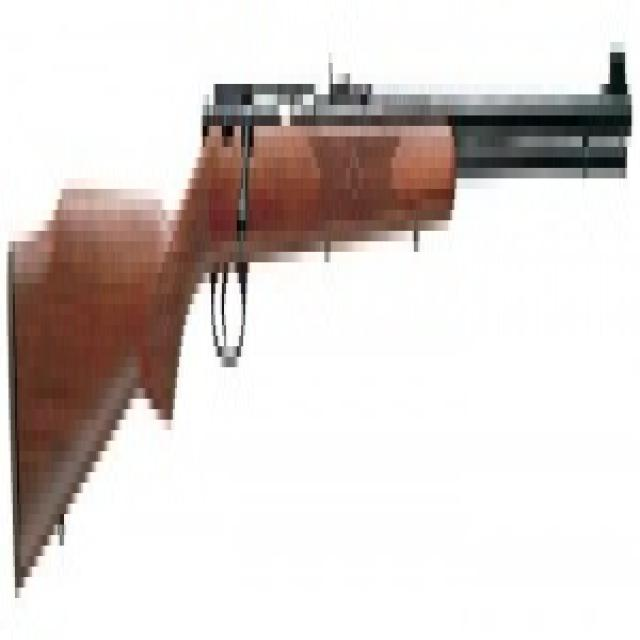rifle: (7, 18, 638, 614)
